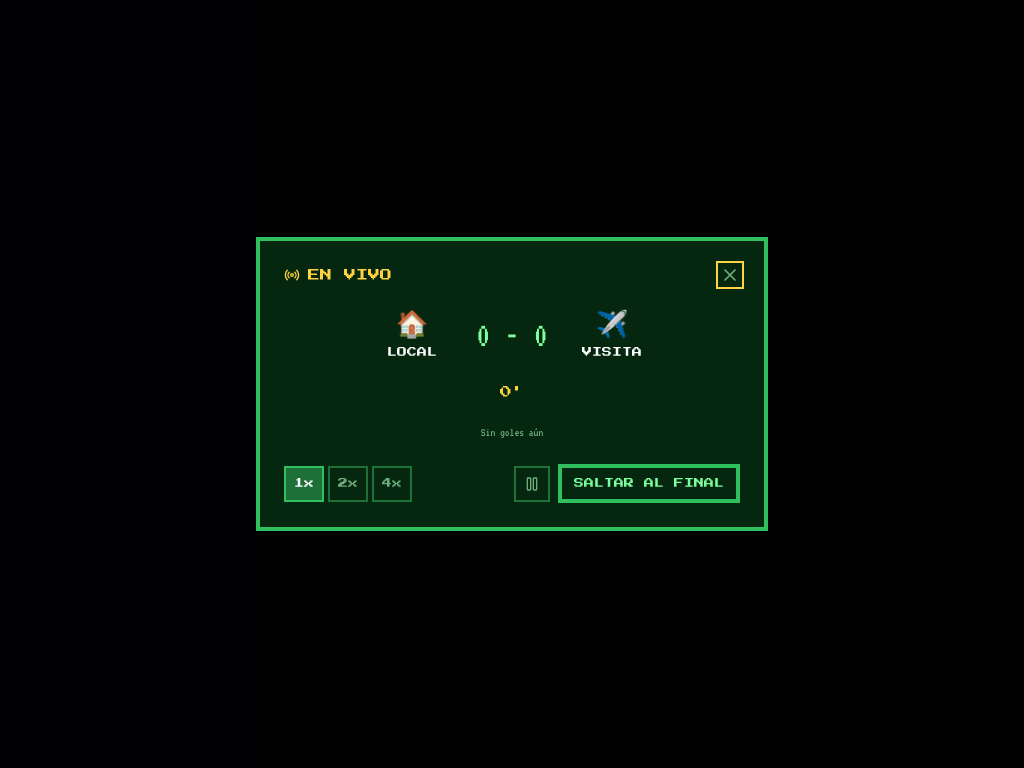
Scenario: LiveMatchModal › pausa el reloj y lo reanuda
Expected: the button "Saltar al final" is shown, top-left (558, 464), bottom-right (740, 503)
Click the button named "Pausar": coordinates (532, 484) top-left (514, 466), bottom-right (550, 502)
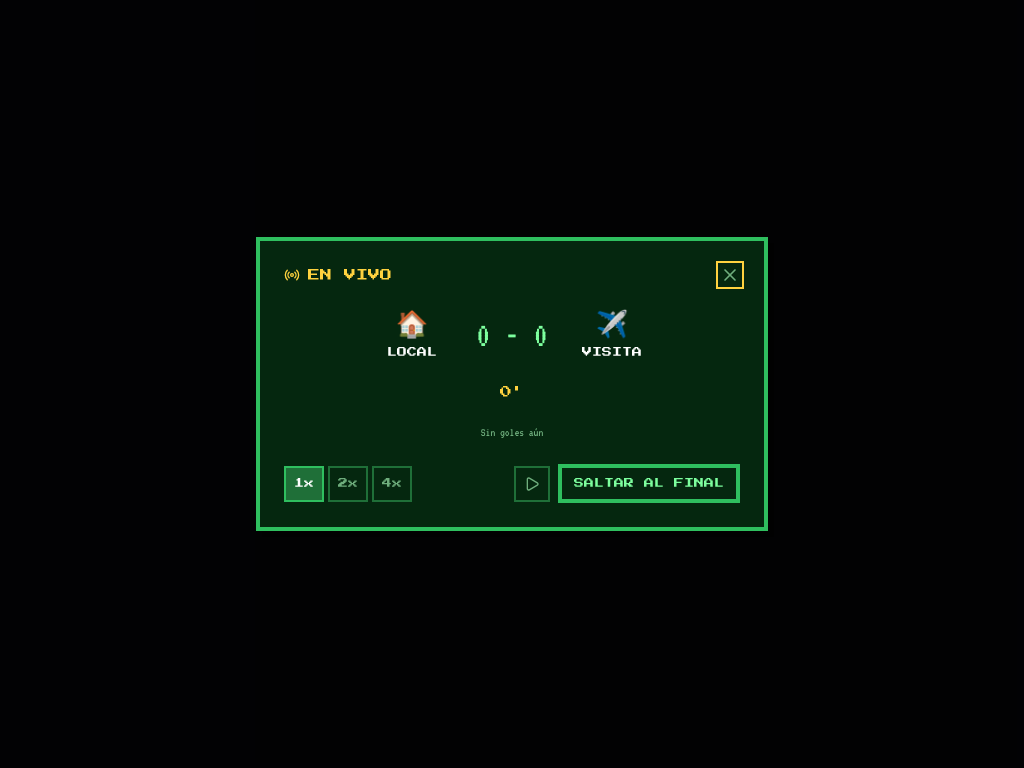
Now the button named "Reanudar" is shown
Click the button named "Reanudar": coordinates (532, 484) top-left (514, 466), bottom-right (550, 502)
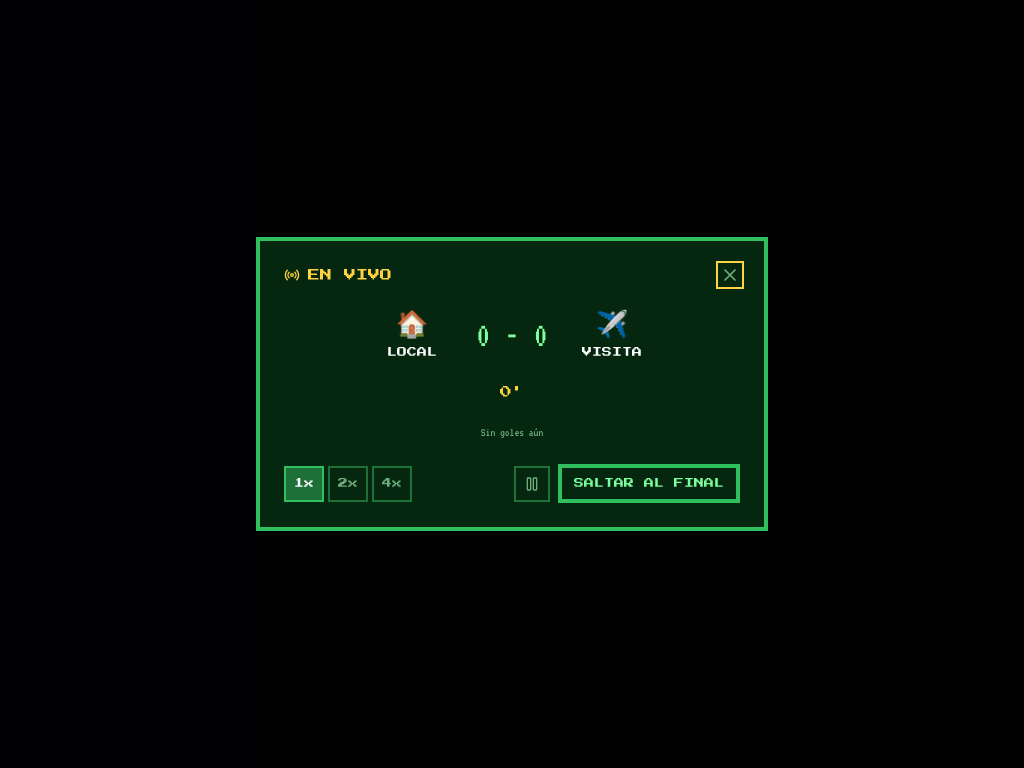
Now the button named "Pausar" is shown, box top-left (514, 466), bottom-right (550, 502)
